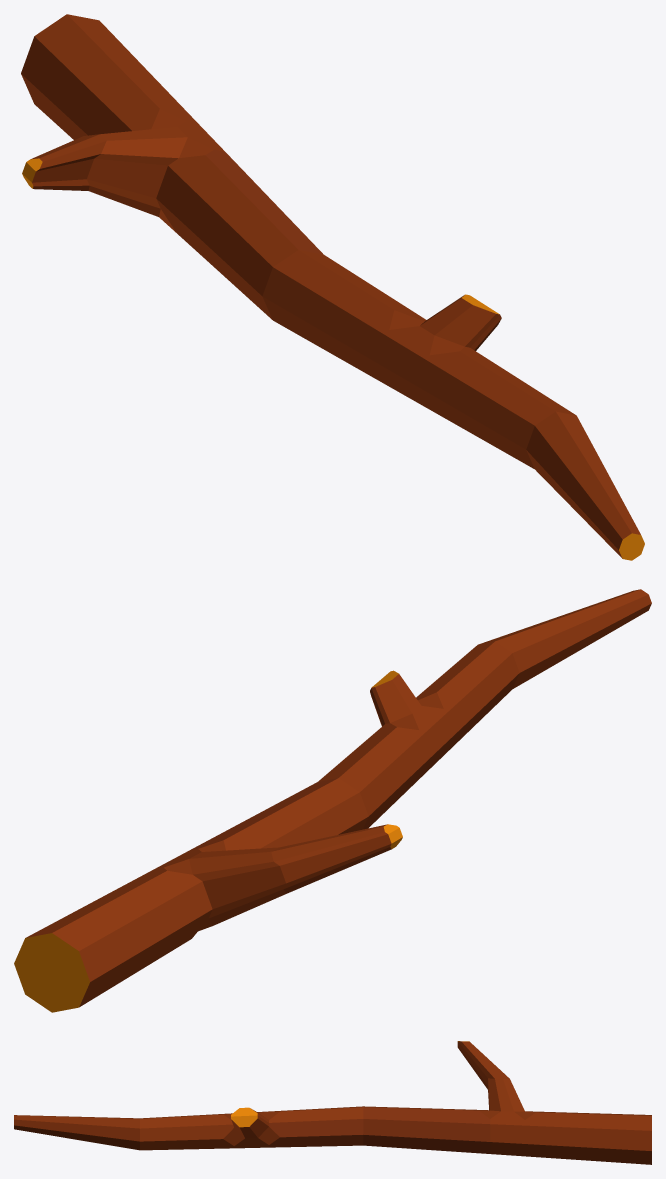
File: Stick_7.fbx
3 views of the same model, one above another, from view 1: azimuth 30°, elevation 25°; view 2: azimuth 150°, elevation 25°; view 3: azimuth 270°, elevation 25° (orthographic). The views are drawn at different scales.
Visible parts, largest first — view 1: Circle.024; view 2: Circle.024; view 3: Circle.024.
Boxes of the visible parts, box(x1,y1,x2,y2) form: Circle.024: box(21, 14, 644, 560); Circle.024: box(14, 589, 651, 1012); Circle.024: box(14, 1041, 651, 1164).
Size of the model in its own units: 10.19 by 4.97 by 40.94.
